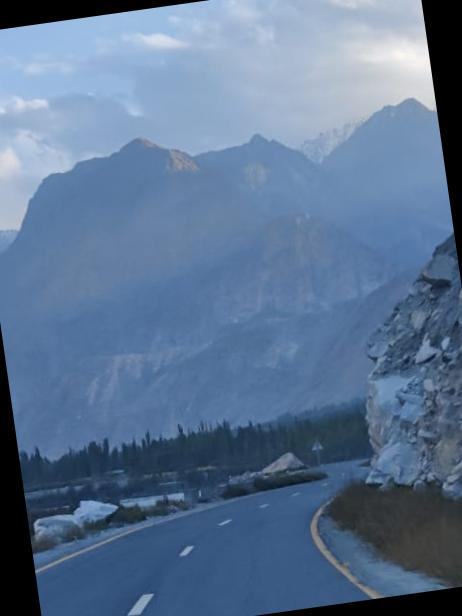left_turn: (231, 444, 398, 540)
